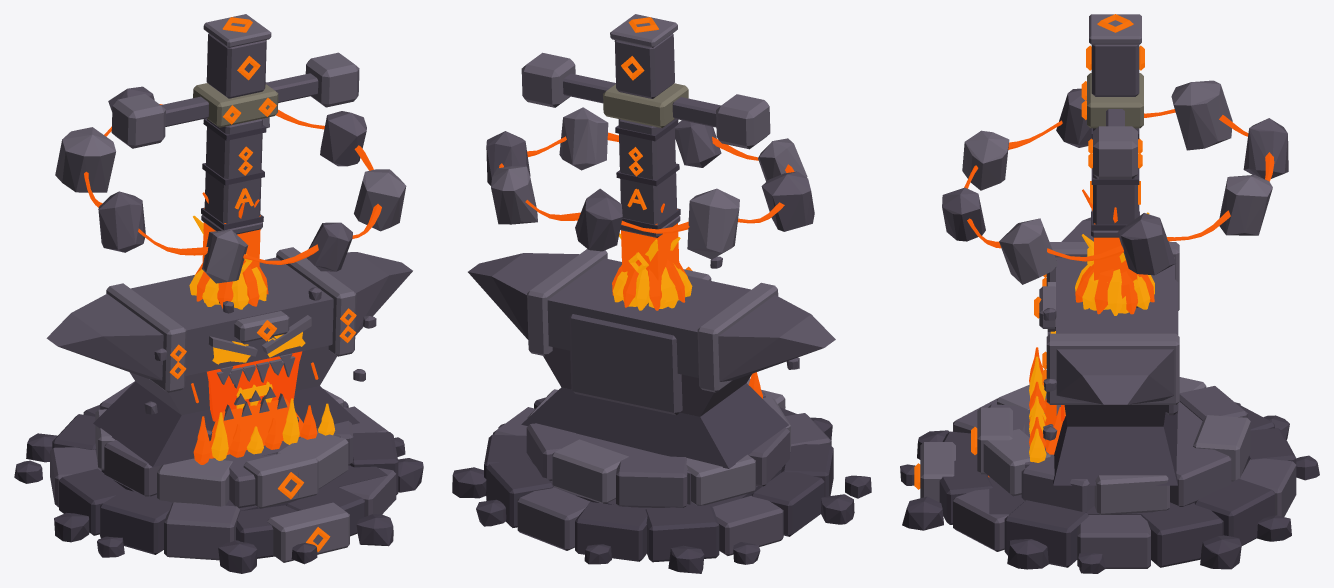
The model's file is bigorna_viva.glb.
3 renders of one model, left to right at view 1: azimuth 30°, elevation 25°; view 2: azimuth 150°, elevation 25°; view 3: azimuth 270°, elevation 25°, orthographic. The views are drawn at different scales.
Visible parts, largest first — view 1: Laje, Pes, Fuste, BlocoBaixo9, BlocoBaixo8, PedraOrbita3, BlocoCima6, BlocoRunaBaixo, BlocoRuna, Cintura, Topo, PlacaE (+41 smaller); view 2: Laje, Pes, PlacaCostas, Fuste, BlocoCima3, BlocoBaixo5, BlocoBaixo4, BlocoCima2, BlocoBaixo3, BlocoBaixo6, PedraOrbita3, Topo (+34 smaller); view 3: Laje, Pes, BlocoBaixo1, BlocoBaixo13, BlocoBaixo0, PlacaD, PedraOrbita3, BlocoBaixo2, BlocoCima0, BlocoCima1, Topo, PedraOrbita1 (+34 smaller).
Boxes of the visible parts, x1,y1,x2,y2 form: Laje: [46, 252, 412, 380]; Pes: [93, 381, 359, 466]; Fuste: [204, 118, 262, 223]; BlocoBaixo9: [164, 502, 240, 560]; BlocoBaixo8: [100, 489, 172, 554]; PedraOrbita3: [55, 127, 115, 192]; BlocoCima6: [157, 458, 232, 506]; BlocoRunaBaixo: [267, 502, 349, 562]; BlocoRuna: [243, 448, 318, 508]; Cintura: [130, 345, 336, 415]; Topo: [206, 33, 266, 98]; PlacaE: [106, 283, 186, 392]; Laje: [468, 253, 835, 381]; Pes: [521, 383, 788, 468]; PlacaCostas: [569, 314, 682, 415]; Fuste: [618, 119, 677, 224]; BlocoCima3: [616, 455, 687, 507]; BlocoBaixo5: [645, 505, 719, 562]; BlocoBaixo4: [575, 502, 647, 561]; BlocoCima2: [552, 439, 628, 503]; BlocoBaixo3: [517, 487, 590, 550]; BlocoBaixo6: [712, 495, 783, 555]; PedraOrbita3: [687, 188, 739, 259]; Topo: [614, 33, 674, 98]; Laje: [1056, 217, 1174, 404]; Pes: [1053, 412, 1177, 485]; BlocoBaixo1: [1141, 503, 1223, 567]; BlocoBaixo13: [1004, 500, 1088, 567]; BlocoBaixo0: [1077, 515, 1150, 568]; PlacaD: [1046, 333, 1179, 404]; PedraOrbita3: [1171, 80, 1232, 150]; BlocoBaixo2: [1194, 478, 1274, 545]; BlocoCima0: [1094, 475, 1169, 514]; BlocoCima1: [1170, 447, 1231, 506]; Topo: [1091, 44, 1139, 96]; PedraOrbita1: [1219, 175, 1272, 235].
Bounding box in the file's own units: 3.66 × 4.51 × 3.53.
